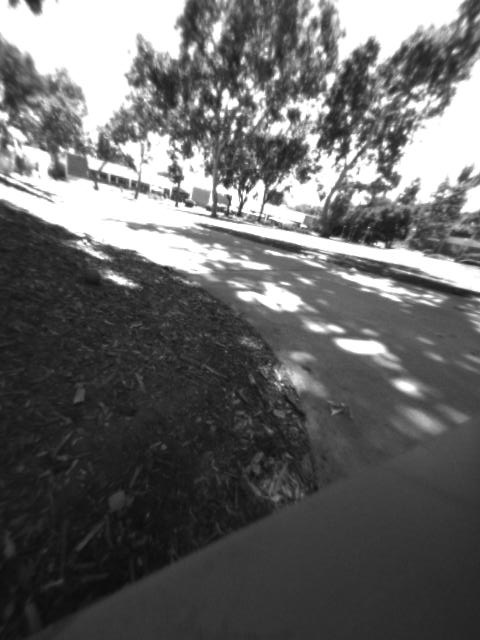dogtoy: (74, 263, 106, 290)
